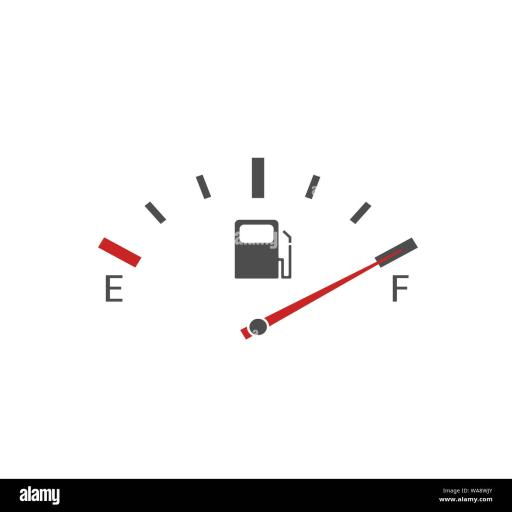empty: (96, 272, 128, 310)
fuel_icon: (230, 217, 292, 280)
full: (388, 271, 409, 302)
guage_area: (84, 156, 419, 347)
needle_center: (233, 312, 280, 341)
needle_tip: (370, 247, 404, 265)
